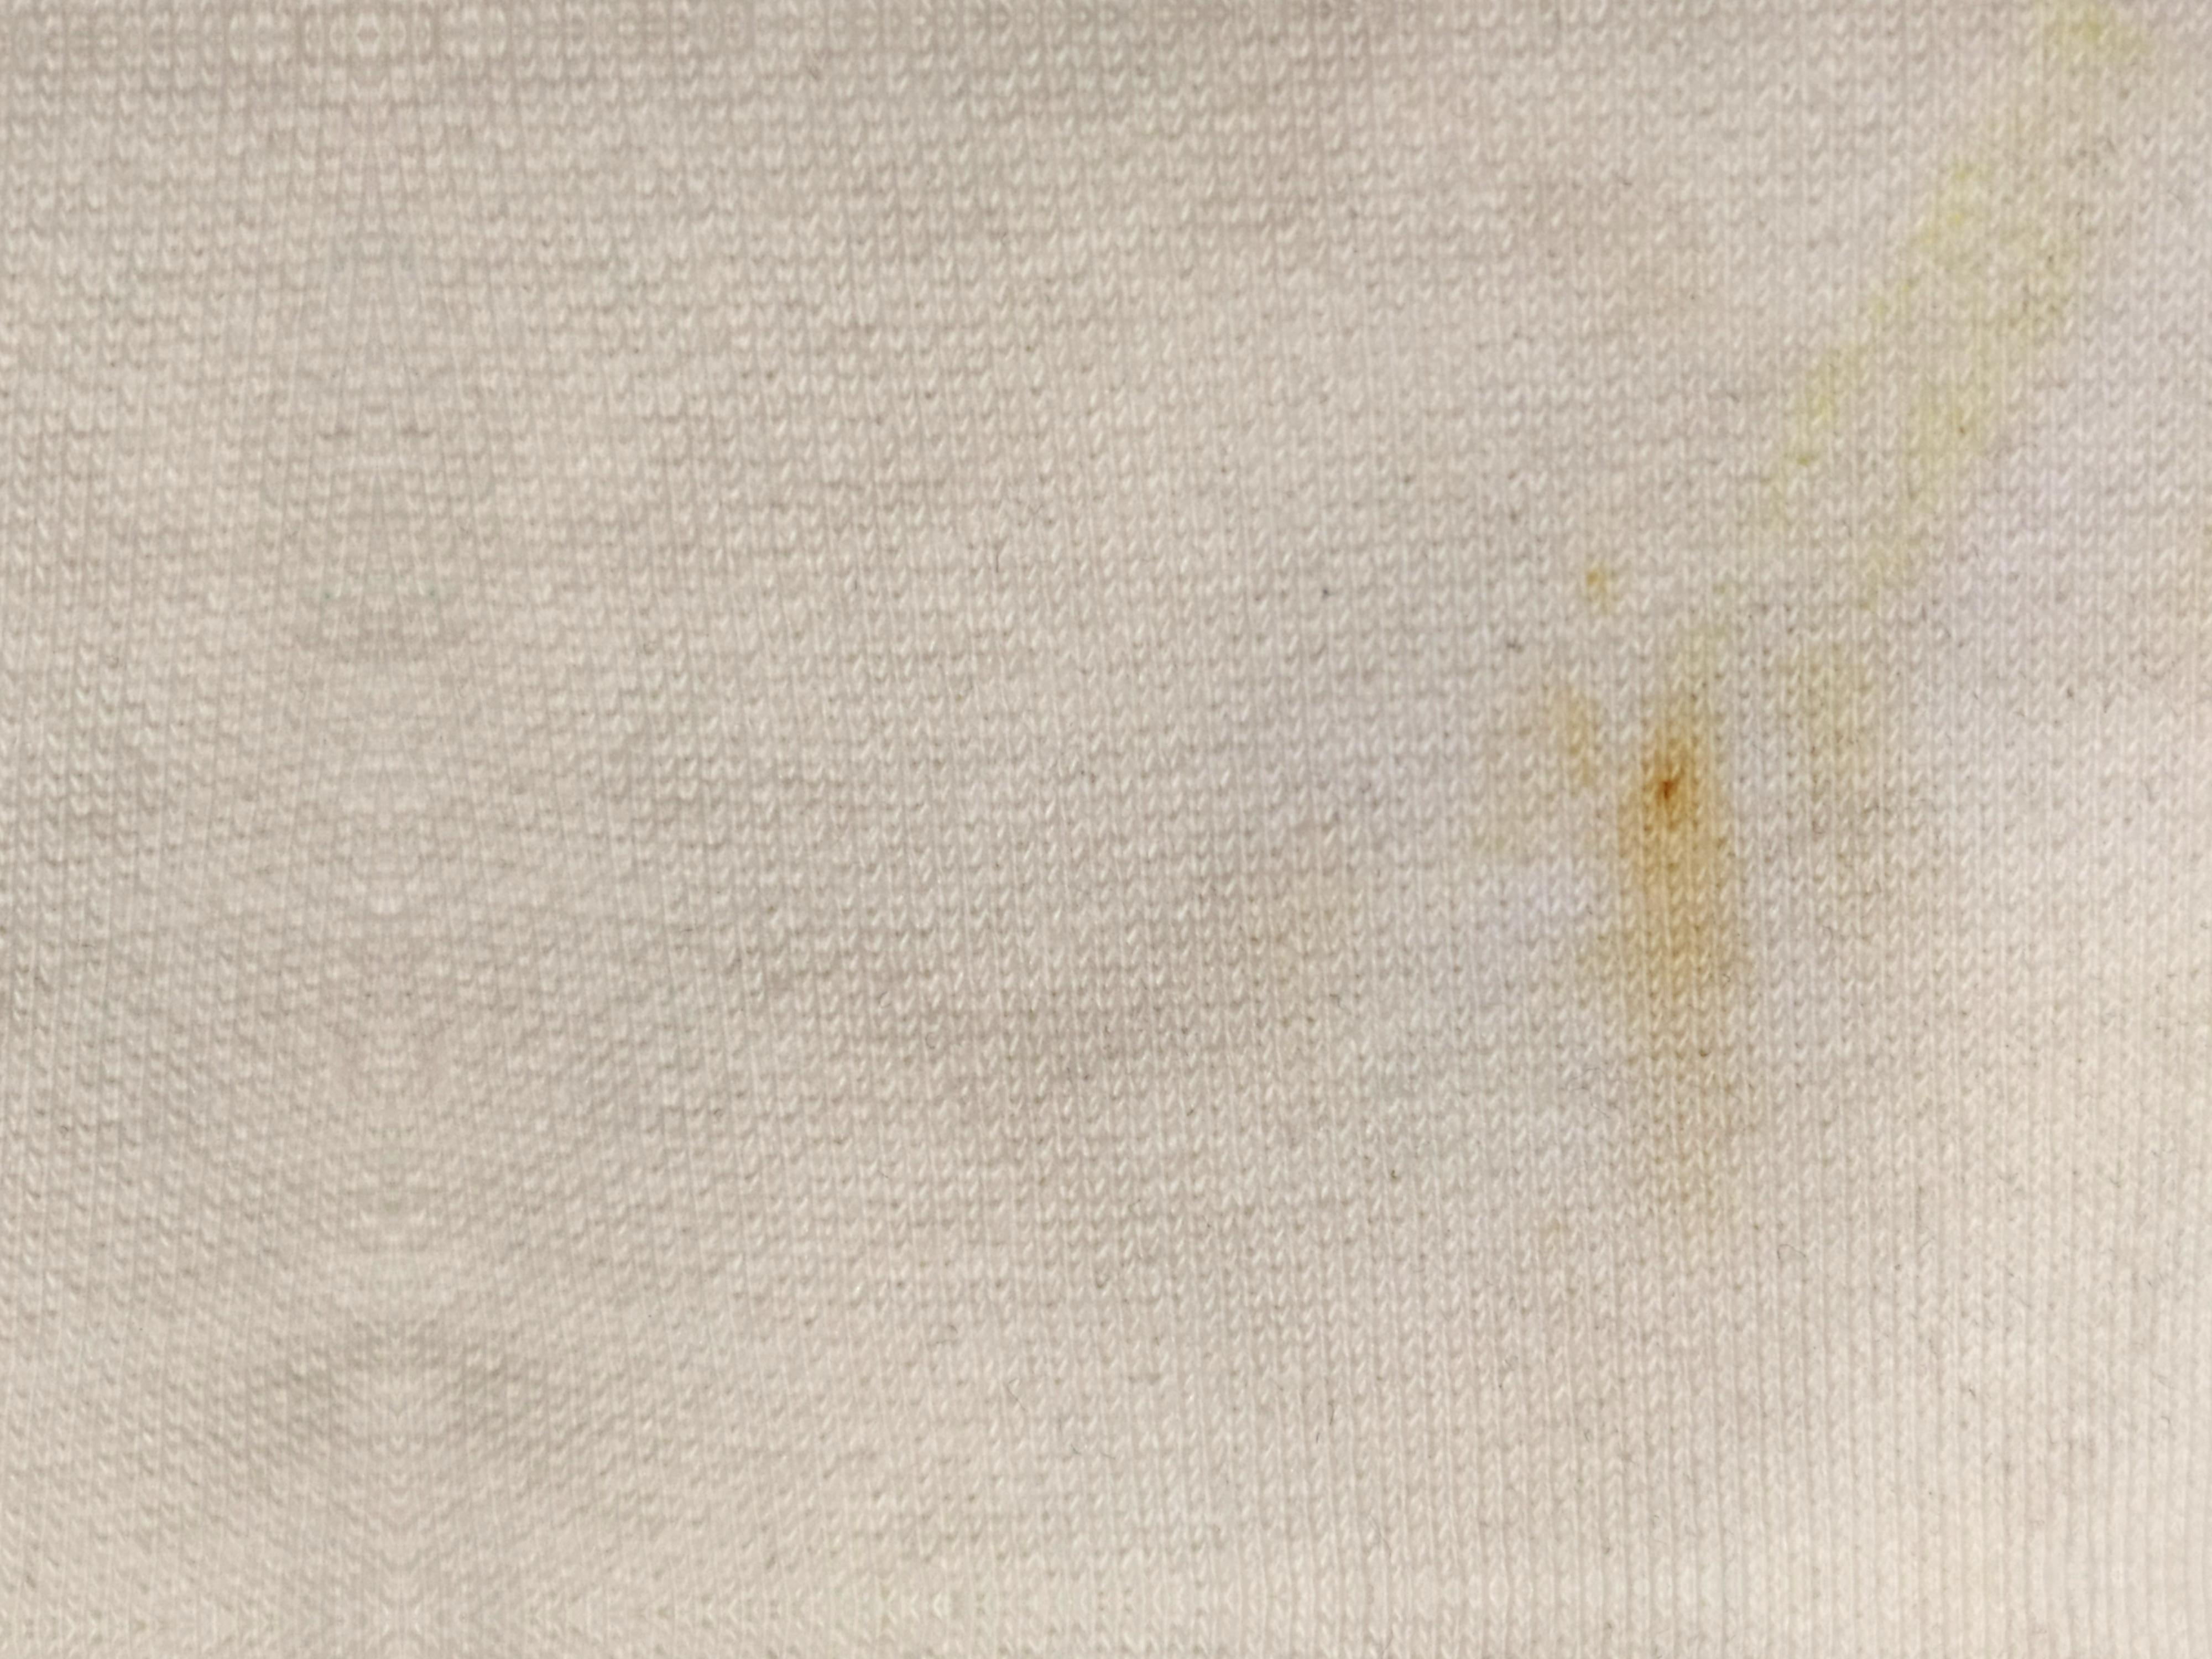stain: (1573, 688, 1773, 1006)
